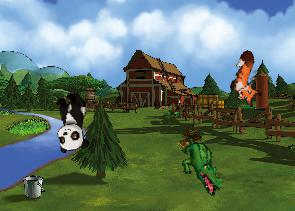crocodile: (167, 132, 236, 198)
fox: (223, 48, 274, 109)
panda: (52, 90, 90, 153)
